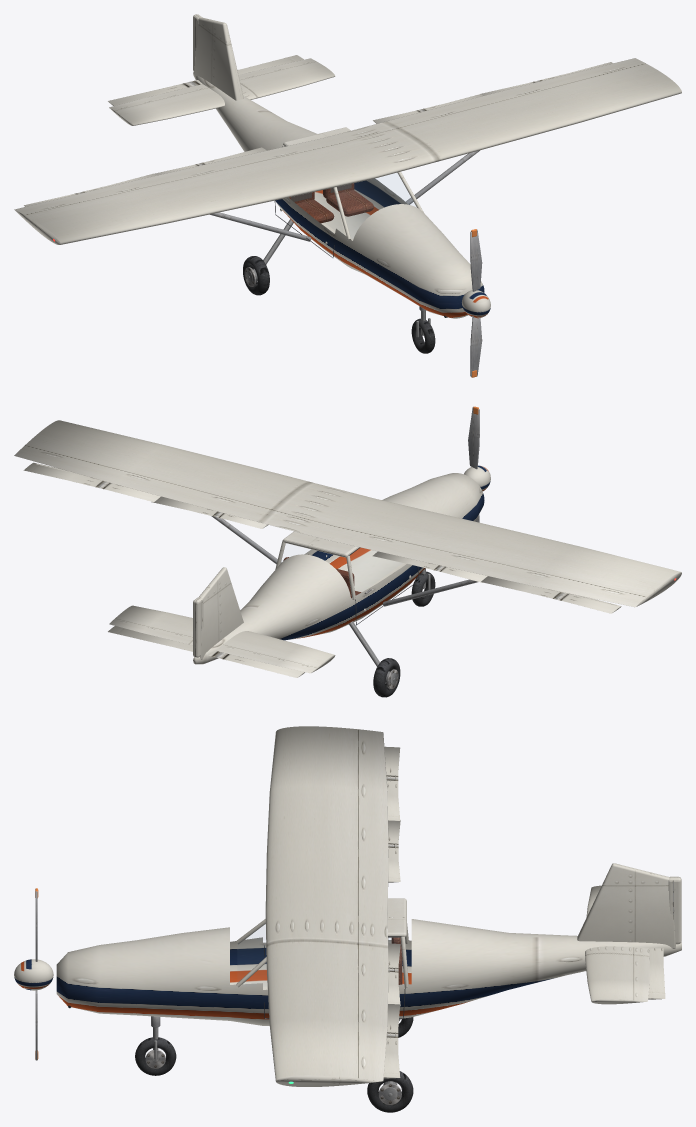
File: aircraft.glb
The picture shows the model from 3 angles, top to bottom: view 1: azimuth 30°, elevation 25°; view 2: azimuth 150°, elevation 25°; view 3: azimuth 270°, elevation 25°; orthographic projection. The views are drawn at different scales.
Parts seen in each view (by area): view 1: AircraftRoot Tile 03 Riveted wing skin, Smooth formed fuselage with open cabin, AircraftRoot Tile 10 Stitched tobacco leather, AircraftRoot Tile 07 Rubber tyre tread, PropellerRoot Tile 05 Riveted aluminium, AircraftRoot Tile 05 Riveted aluminium, Elevator, Elliptical spinner; view 2: AircraftRoot Tile 03 Riveted wing skin, Smooth formed fuselage with open cabin, Elevator, AileronLeft, AileronRight, AircraftRoot Tile 07 Rubber tyre tread, AircraftRoot Tile 05 Riveted aluminium, FlapRight, FlapLeft, PropellerRoot Tile 05 Riveted aluminium, Rudder, AircraftRoot Tile 14 Mechanical gear steel; view 3: AircraftRoot Tile 03 Riveted wing skin, Smooth formed fuselage with open cabin, AircraftRoot Tile 07 Rubber tyre tread, AileronRight, Elliptical spinner, AileronLeft, Elevator, FlapLeft, Rudder, FlapRight, AircraftRoot Tile 06 Polished wheel hub.
Boxes of the visible parts, x1,y1,x2,y2 form: AircraftRoot Tile 03 Riveted wing skin: (14,17,681,244); Smooth formed fuselage with open cabin: (193,72,484,318); AircraftRoot Tile 10 Stitched tobacco leather: (289,183,373,223); AircraftRoot Tile 07 Rubber tyre tread: (243,256,435,353); PropellerRoot Tile 05 Riveted aluminium: (470,229,482,376); AircraftRoot Tile 05 Riveted aluminium: (210,150,479,311); Elevator: (108,55,303,105); Elliptical spinner: (462,290,490,318); AircraftRoot Tile 03 Riveted wing skin: (14,420,681,673); Smooth formed fuselage with open cabin: (193,473,484,664); Elevator: (108,626,304,677); AileronLeft: (481,576,621,613); AileronRight: (23,462,160,502); AircraftRoot Tile 07 Rubber tyre tread: (373,571,435,697); AircraftRoot Tile 05 Riveted aluminium: (211,516,477,606); FlapRight: (151,496,268,528); FlapLeft: (373,551,487,582); PropellerRoot Tile 05 Riveted aluminium: (468,406,479,522); Rudder: (193,597,203,657); AircraftRoot Tile 14 Mechanical gear steel: (349,568,430,684); AircraftRoot Tile 03 Riveted wing skin: (236,726,675,1086); Smooth formed fuselage with open cabin: (56,919,681,1025); AircraftRoot Tile 07 Rubber tyre tread: (135,1017,413,1112); AileronRight: (383,1004,400,1078); Elliptical spinner: (14,959,53,990); AileronLeft: (384,746,400,820); Elevator: (648,948,665,999); FlapLeft: (388,820,400,882); Rudder: (668,876,681,944); FlapRight: (388,943,400,1006); AircraftRoot Tile 06 Polished wheel hub: (145,1019,401,1104).
Size of the model in its own units: 10.01 by 2.82 by 8.08.
Materials: 17 (14 with a texture image).
